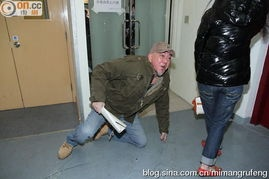falling: (52, 42, 179, 158)
